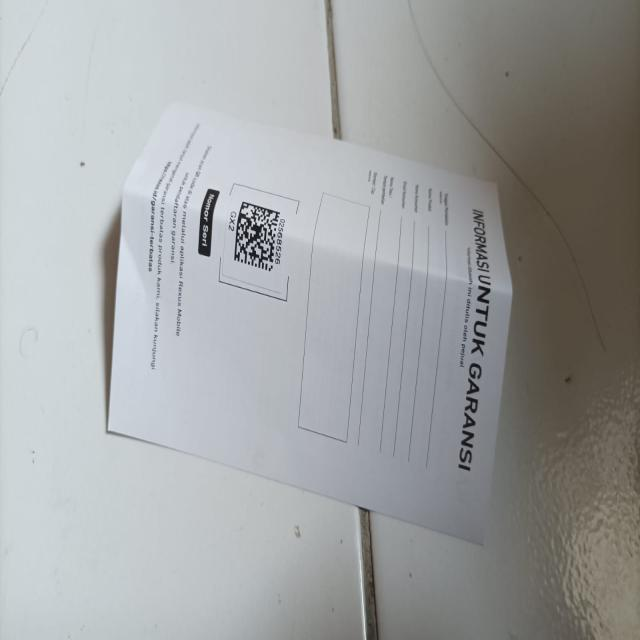Organik: (109, 107, 513, 546)
